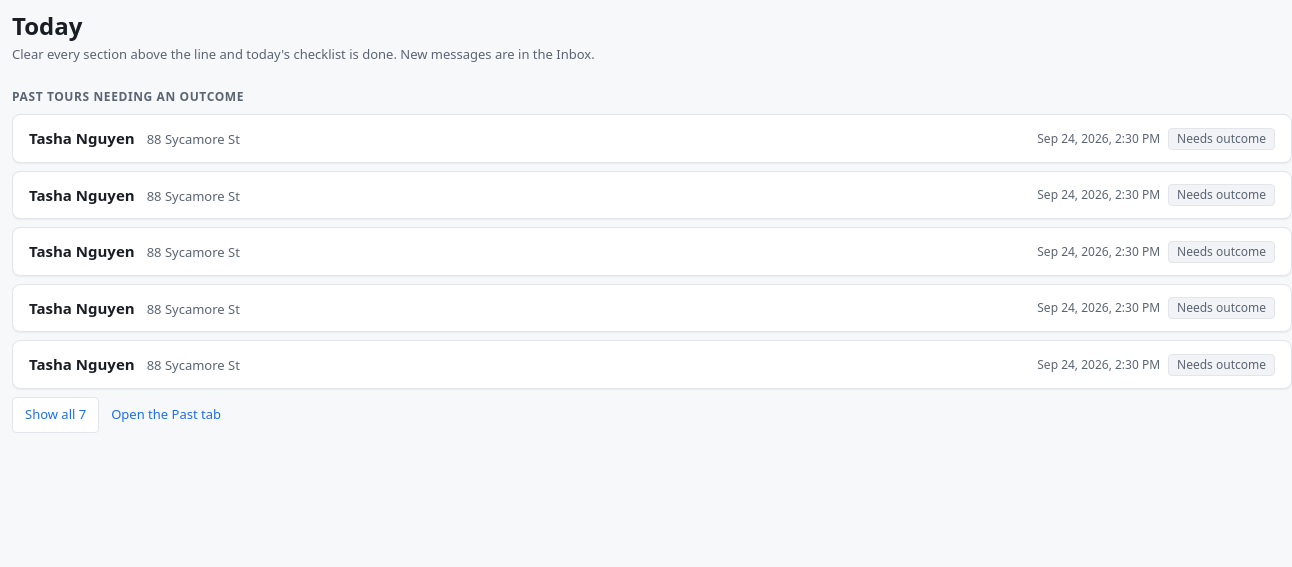
Test: Today - past tours needing an outcome (Sam item 18) › shows 5 rows with "Show all N" beside the Past tab link (spec 2.1)
This screenshot has width=1292, height=567.
Check: the number of list items is 5, box [12,114,1291,163]; [12,171,1291,219]; [12,227,1291,276]; [12,284,1291,332]; [12,340,1291,389]
Click the button "Show all 7": (56, 415) [12,397,99,433]
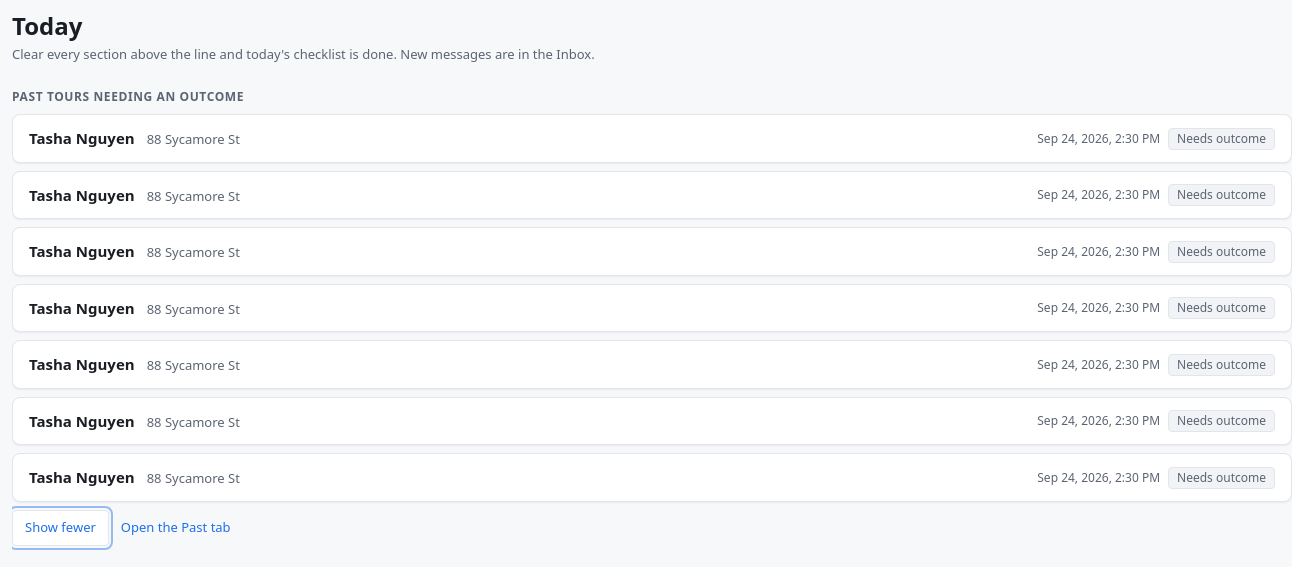
Check: the number of list items is 7
